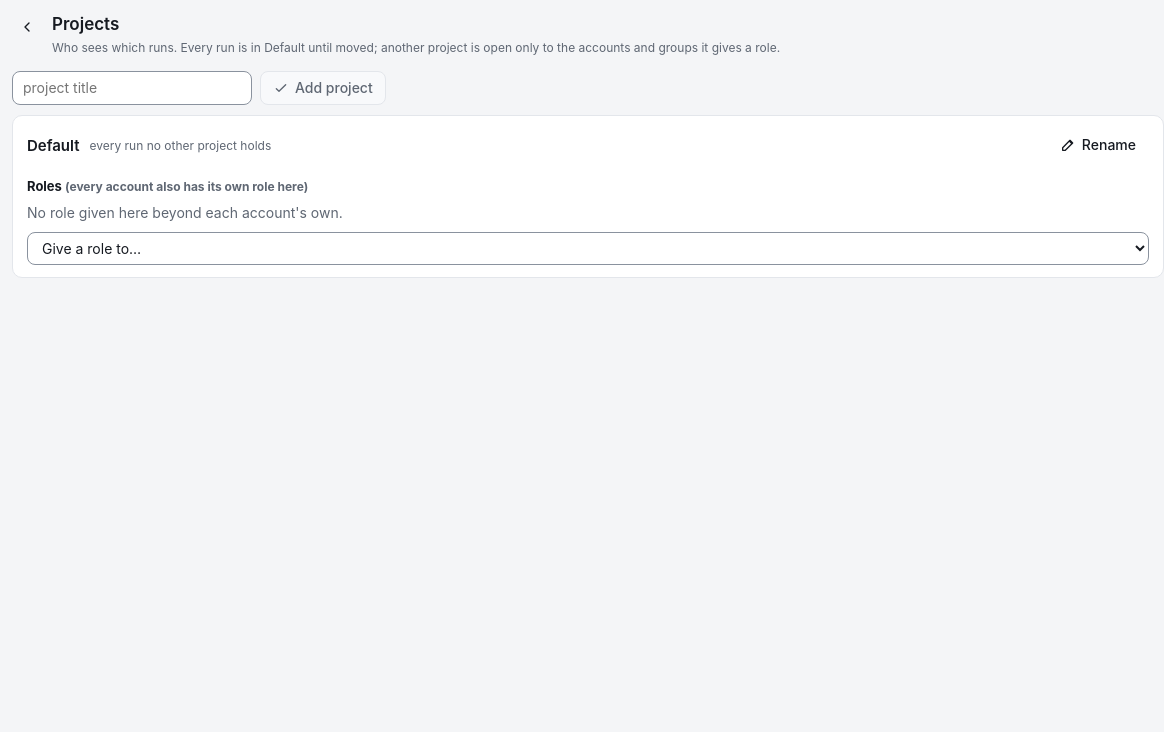
Test: ProjectsView › adds a project, gives a group a role there and moves a run in
This screenshot has width=1164, height=732.
Type "Acme" into the field named "new project's title" at (132, 88), box [12, 71, 252, 105]
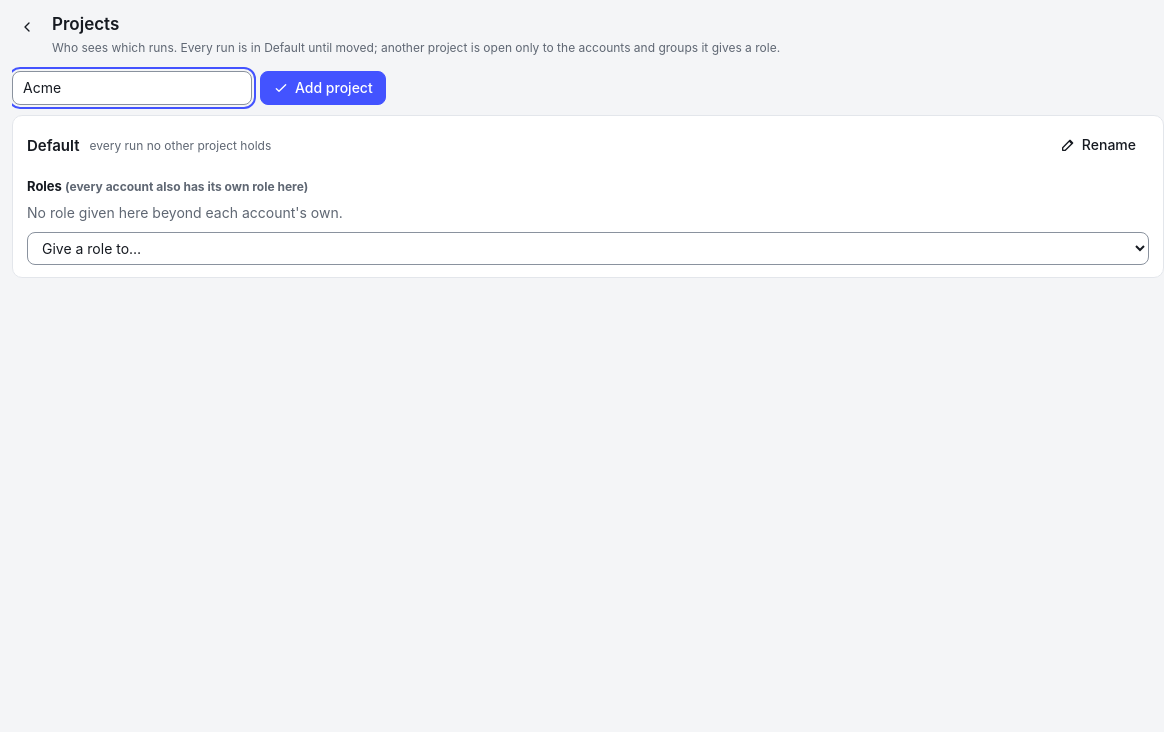
Click the button "Add project" at (323, 88), box [260, 71, 386, 105]
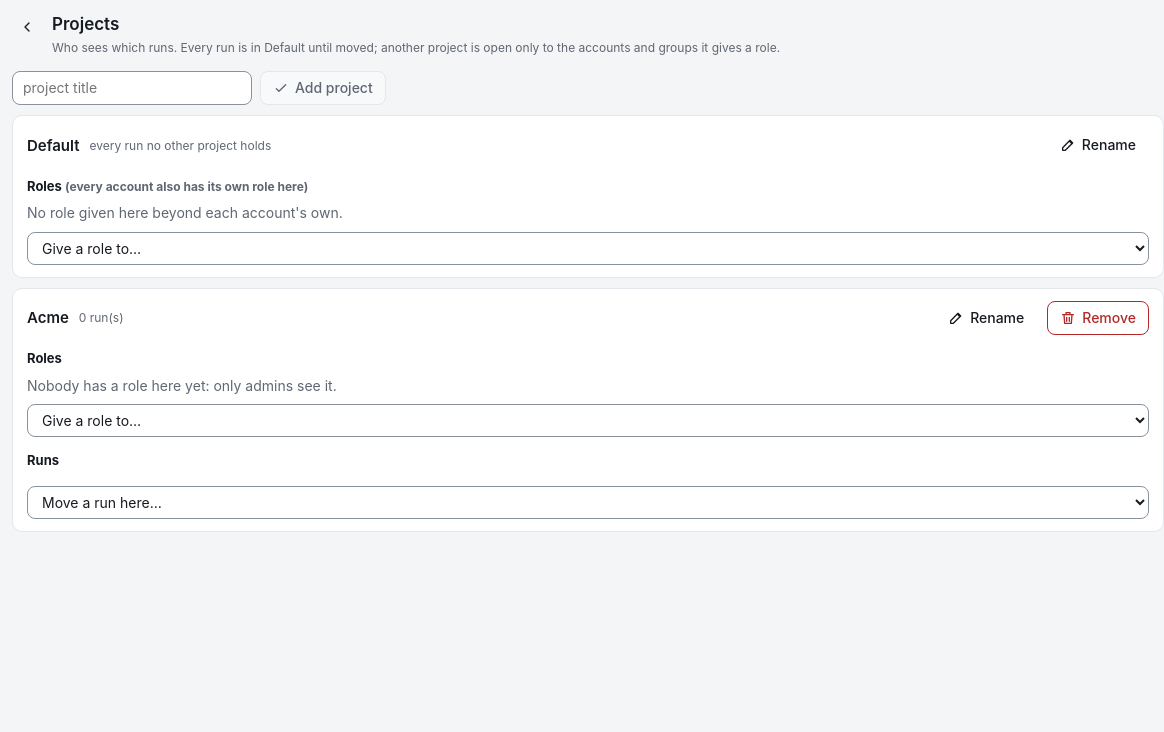
Check: the list item "Nobody has a role here yet: only admins see it." is shown, box [27, 377, 337, 394]
Select "group gateway-team" in the dropdown named "give a role in Acme" at (588, 421), box [27, 404, 1149, 437]
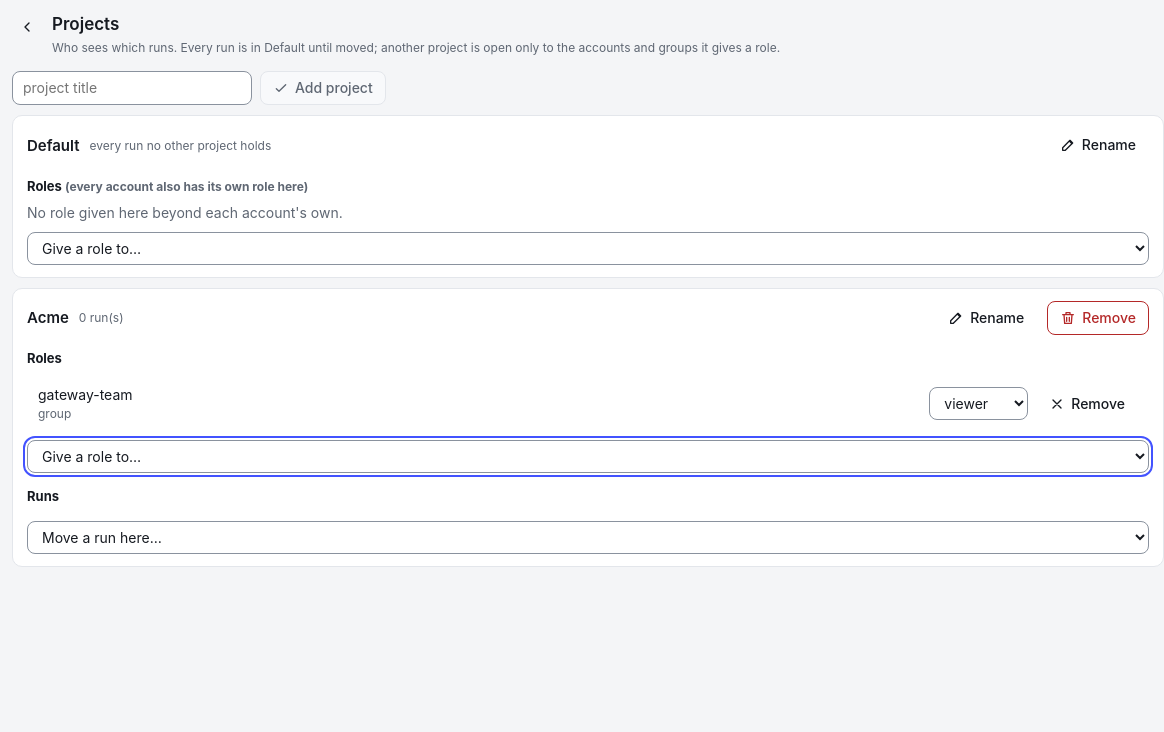
Check: the text "gateway-team" is shown, box [38, 386, 132, 403]
Select "Gateway review" in the dropdown named "move a run into Acme" at (588, 538), box [27, 521, 1149, 554]
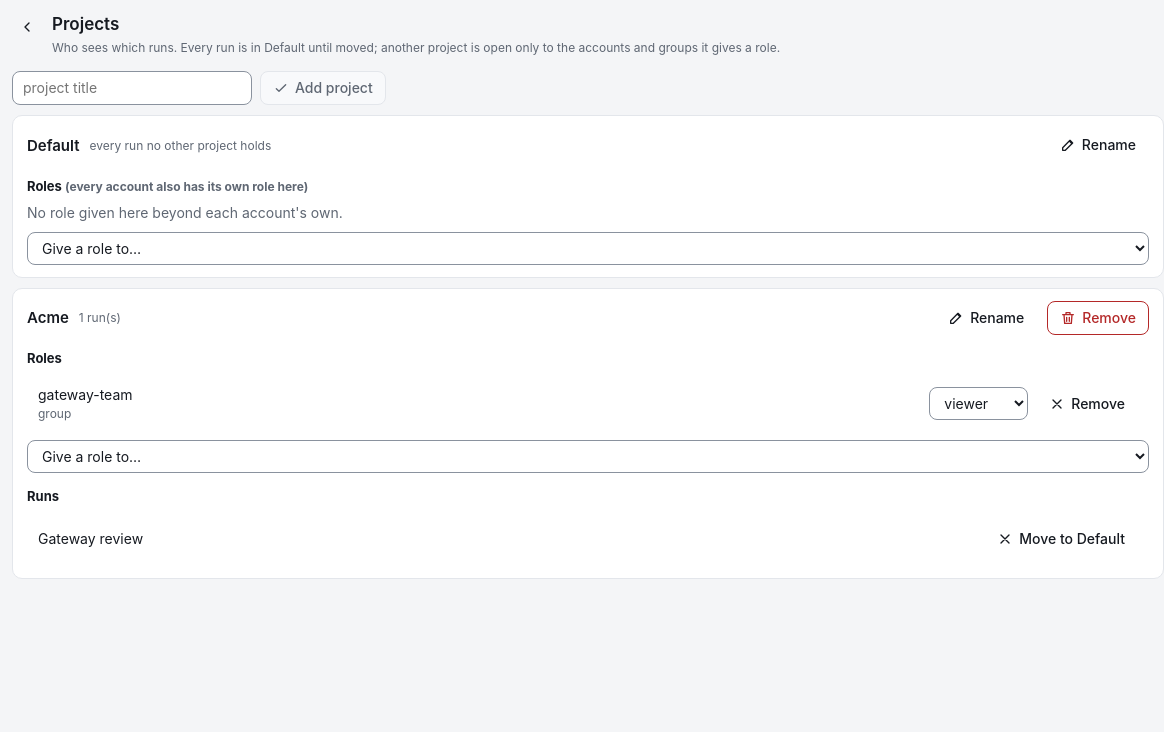
Check: the button "Move to Default" is shown, box [984, 522, 1138, 557]
